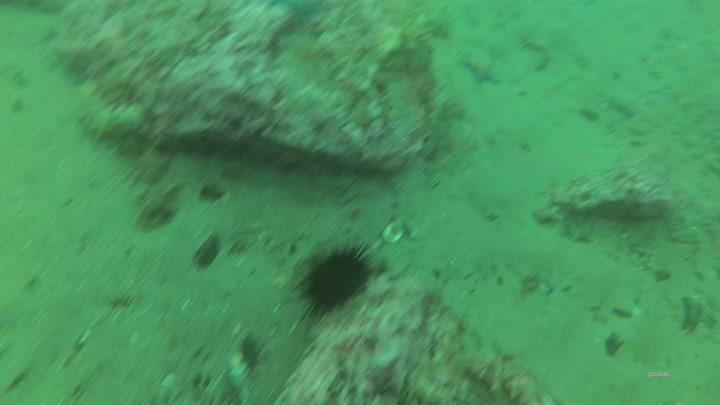urchin: (292, 241, 377, 314)
